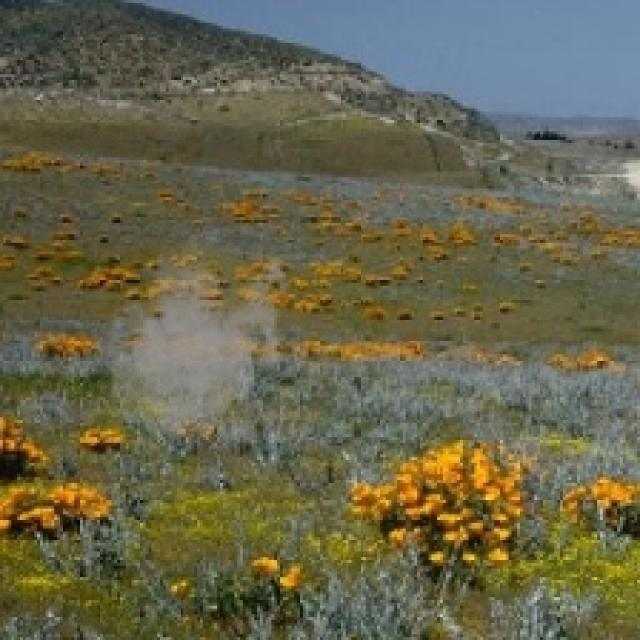smoke: (91, 226, 292, 443)
